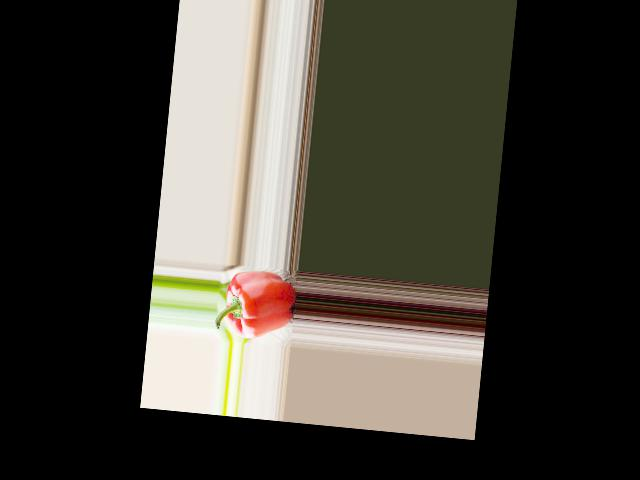bell_pepper: (215, 268, 298, 344)
